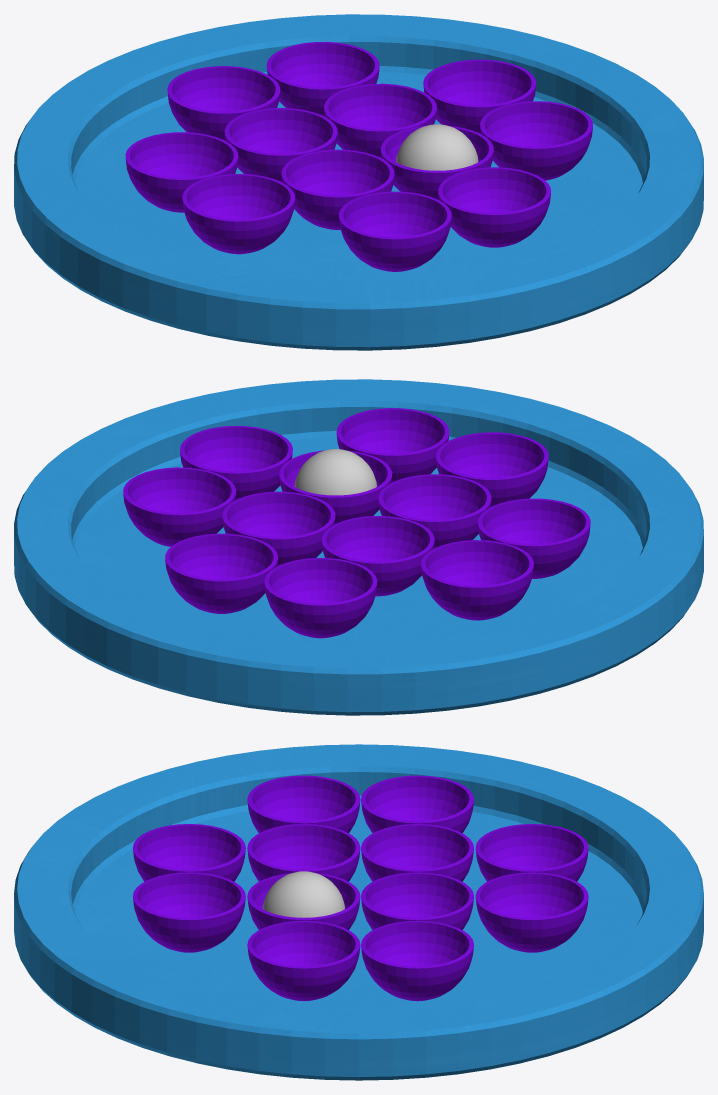
Rendered from BrainVita8.fbx.
The picture shows the model from 3 angles, top to bottom: view 1: azimuth 30°, elevation 25°; view 2: azimuth 150°, elevation 25°; view 3: azimuth 270°, elevation 25°; orthographic projection.
Parts seen in each view (by area): view 1: BackCylinder, 7.001, 6, 1.001, 2, 6.008, 7, 7.007, 1.007, 2.008, 7.008, 1.008 (+2 smaller); view 2: BackCylinder, 6.008, 7.007, 1.007, 2.008, 6, 7.008, 7.001, 1.008, 1.001, 7, 2 (+2 smaller); view 3: BackCylinder, 1.007, 1.001, 2.008, 2, 6, 7.007, 6.008, 7.001, 7.008, 1.008, 7 (+2 smaller).
Part boxes in pixels (x1,y1,x2,y2): BackCylinder: (14, 14, 703, 350); 7.001: (339, 191, 451, 271); 6: (182, 174, 295, 254); 1.001: (438, 167, 550, 247); 2: (480, 101, 592, 180); 6.008: (125, 132, 238, 212); 7: (281, 149, 394, 229); 7.007: (167, 66, 280, 140); 1.007: (266, 42, 379, 116); 2.008: (423, 59, 536, 133); 7.008: (224, 108, 337, 182); 1.008: (324, 83, 436, 157); BackCylinder: (14, 379, 703, 715); 6.008: (421, 540, 533, 620); 7.007: (264, 558, 377, 638); 1.007: (165, 533, 277, 613); 2.008: (123, 467, 235, 546); 6: (478, 498, 590, 578); 7.008: (321, 516, 434, 596); 7.001: (436, 432, 548, 506); 1.008: (222, 491, 335, 566); 1.001: (336, 408, 449, 482); 7: (378, 474, 491, 548); 2: (180, 426, 292, 499); BackCylinder: (14, 744, 703, 1080); 1.007: (475, 872, 588, 952); 1.001: (132, 872, 245, 952); 2.008: (361, 920, 473, 1001); 2: (247, 920, 360, 1001); 6: (247, 775, 360, 833); 7.007: (475, 824, 588, 881); 6.008: (361, 775, 473, 833); 7.001: (133, 824, 245, 881); 7.008: (361, 824, 473, 881); 1.008: (361, 872, 473, 929); 7: (247, 824, 360, 881).
Bounding box in the file's own units: 1.33 × 0.1816 × 1.33.
